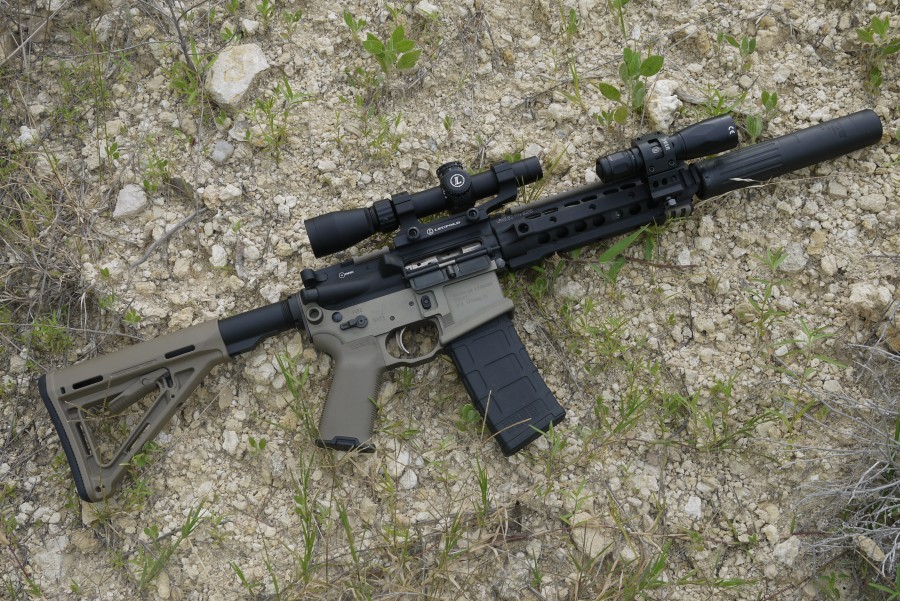Rifle: (36, 98, 890, 517)
